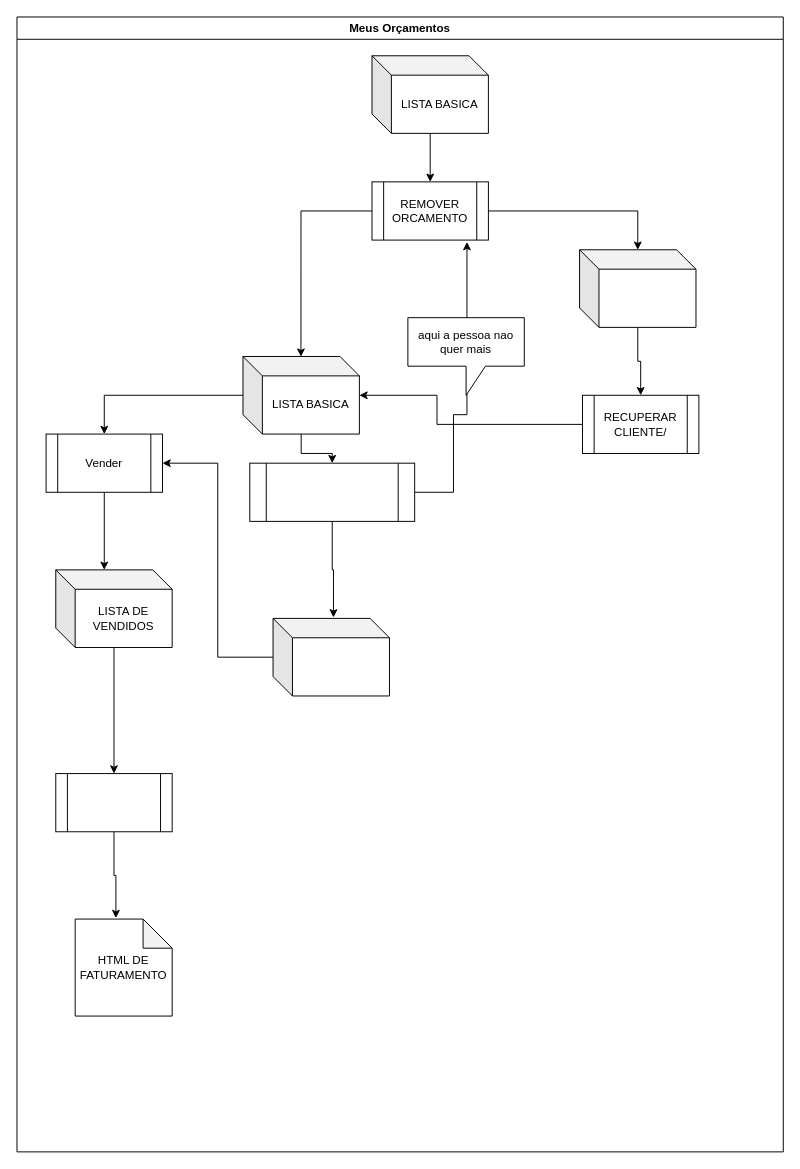
This 800x1169 diagram has some shape labels left out. Here are the shapes that lost their labels. From the top down, the centre of each, then its label:
point 637,288: LISTA DE REMOVIDOS
point 332,491: MARCAR CONTATO
point 330,656: LISTA DE CONTATOS FEITOS
point 113,802: SABER VALOR TOTAL DE VENDAS
